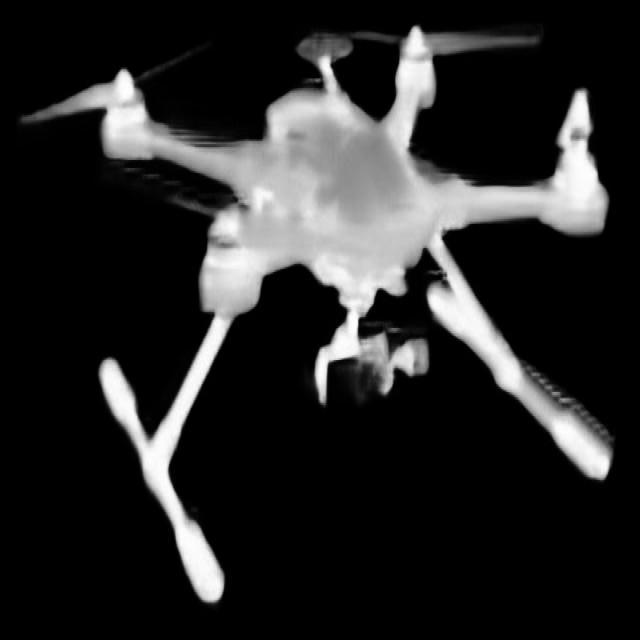drone: (16, 18, 627, 608)
